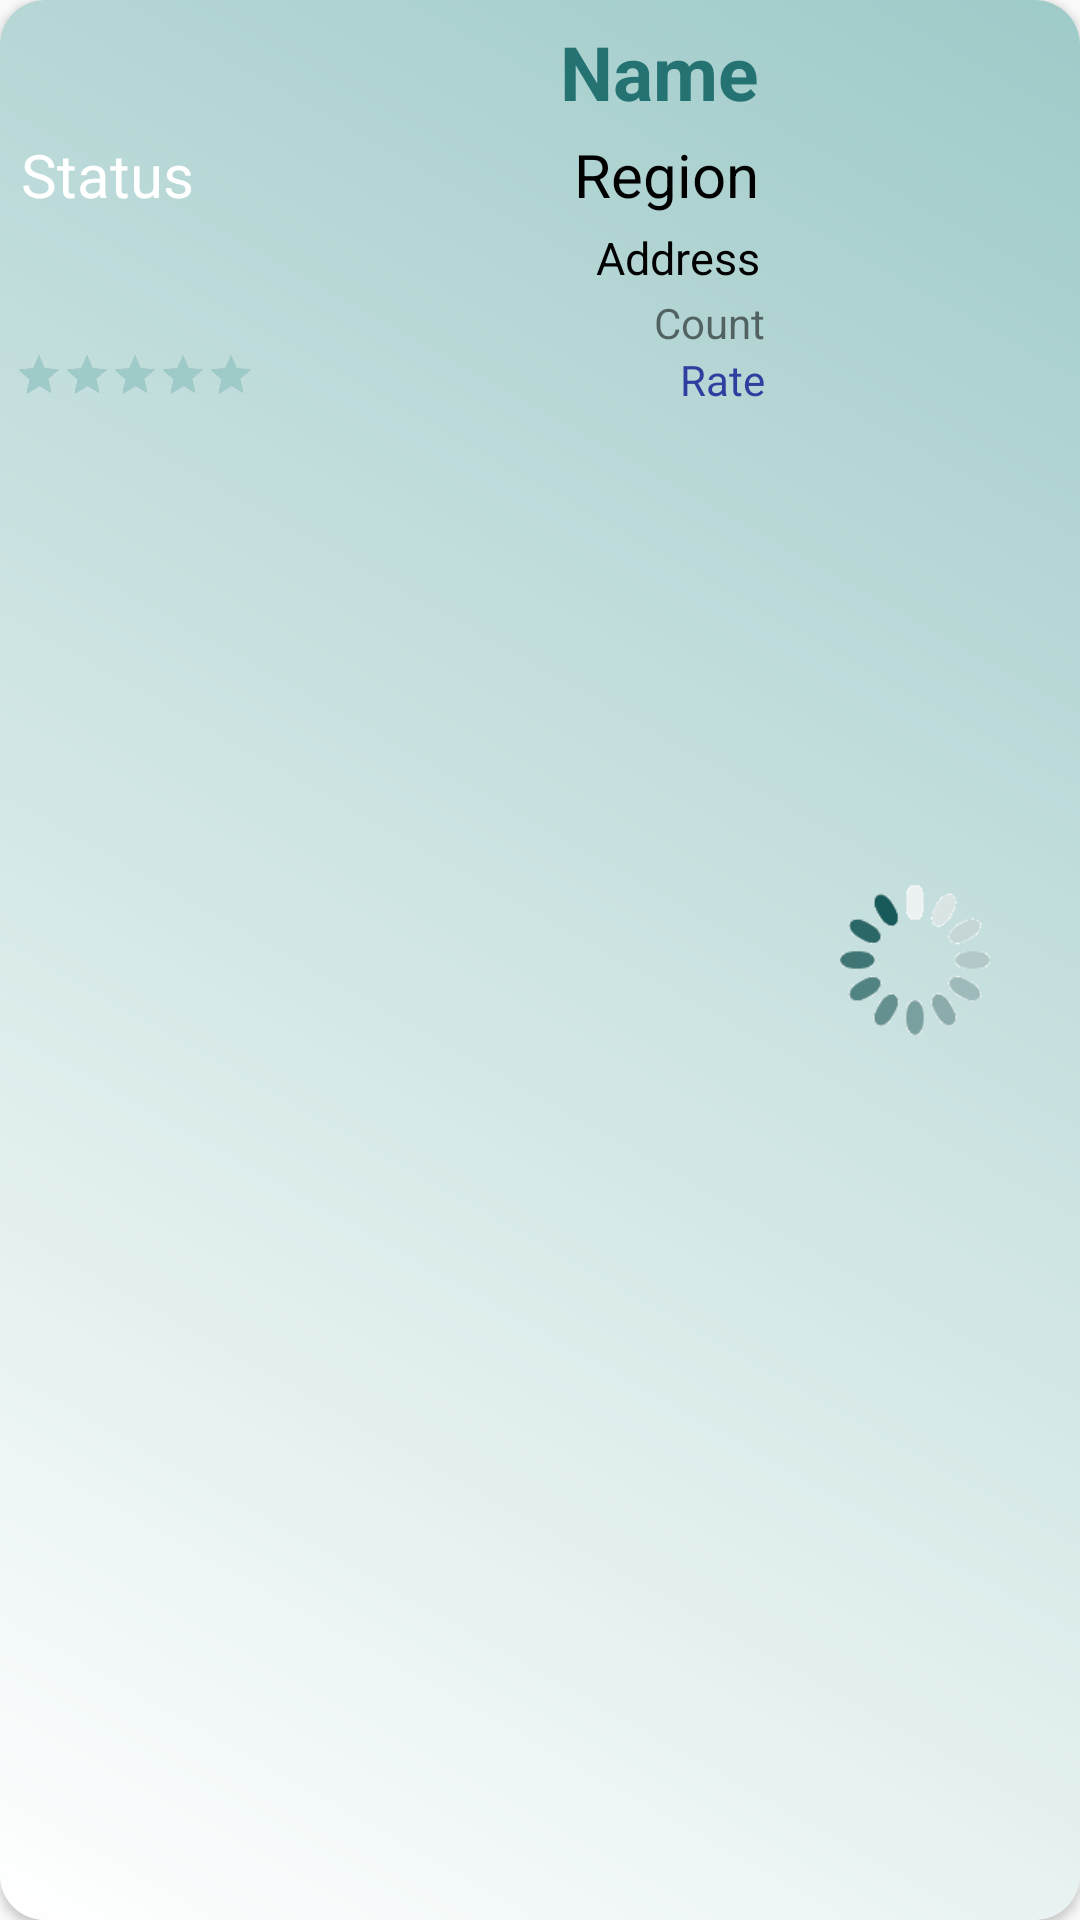

Named icons in this screenshot (1080w x 1920h) and their bounding boxes, (x1, y1, x2, y2):
loading: (840, 885, 990, 1035)
